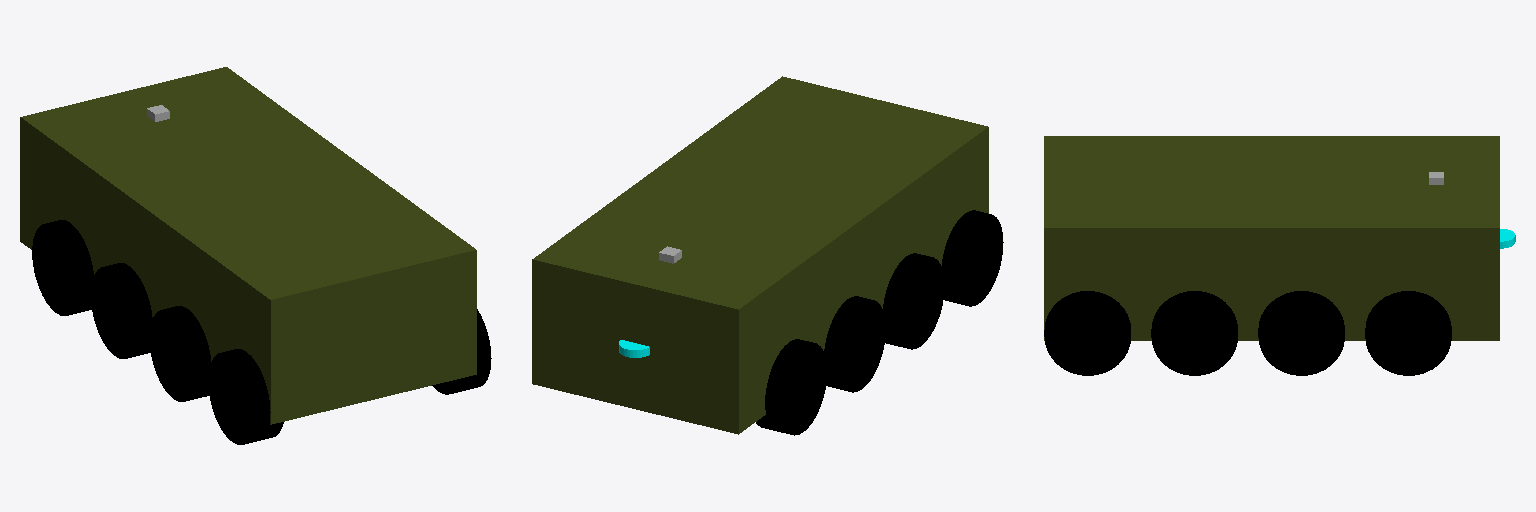
The robot description file, URDF, robot "argo_j8":
<?xml version="1.0"?>
<robot name="argo_j8">

  <!-- Definicion de materiales constantes -->
  <material name="Military green">
    <color rgba="0.29 0.33 0.13 1.0"/>
  </material>

  <material name="black">
    <color rgba="0.0 0.0 0.0 1.0"/>
  </material>

  <material name="blue">
    <color rgba="0.0 1.0 1.0 1.0"/>
  </material>

  <material name="grey">
    <color rgba="0.7 0.7 0.7 1.0"/>
  </material>

  <!-- Chasis -->
  <link name="base_link">
    <visual>
      <geometry>
        <box size="1.40 2.94 0.81"/> <!-- Dimensiones en metros -->
      </geometry>
      <origin xyz="0 0 0" rpy="0 0 0" />
      <material name="Military green"/>
    </visual>
    <collision>
      <geometry>
        <box size="1.40 2.94 0.81"/> <!-- Dimensiones en metros -->
      </geometry>
      <origin xyz="0 0 0" rpy="0 0 0" />
    </collision>
  </link>

  <!-- LiDAR, Cámara y sensor -->
   <link name="LiDAR">
    <visual>
      <geometry>
        <cylinder radius="0.1" length="0.05"/> <!-- Dimensiones en metros -->
      </geometry>
      <origin xyz="0 0 0" rpy="0 0 0" />
      <material name="blue"/>
    </visual>
    <collision>
      <geometry>
        <box size="0.2 0.2 0.05"/> <!-- Dimensiones en metros -->
      </geometry>
      <origin xyz="0 0 0" rpy="0 0 0" />
    </collision>
  </link> 

   <link name="camera">
    <visual>
      <geometry>
        <box size="0.1 0.1 0.1"/> <!-- Dimensiones en metros -->
      </geometry>
      <origin xyz="0 0 0" rpy="0 0 0" />
      <material name="grey"/>
    </visual>
    <collision>
      <geometry>
        <box size="0.1 0.1 0.1"/> <!-- Dimensiones en metros -->
      </geometry>
      <origin xyz="0 0 0" rpy="0 0 0" />
    </collision>
  </link> 

  <!-- Definicion de las 8 ruedas -->
  
  <!-- Rueda delantera izquierda -->
  <link name="wheel_front_left">
    <visual>
      <geometry>
        <cylinder radius="0.28" length="0.20"/> <!-- Radio y ancho de la rueda -->
      </geometry>
      <origin xyz="0 0 0" rpy="0 1.57 0" /> <!-- Radio en radianes -->
      <material name="black"/>
    </visual>
    <collision>
      <geometry>
        <cylinder radius="0.28" length="0.20"/> <!-- Radio y ancho de la rueda -->
      </geometry>
      <origin xyz="0 0 0" rpy="0 1.57 0" /> <!-- Radio en radianes -->
    </collision>
  </link>

  <!-- Rueda delantera derecha -->
  <link name="wheel_front_right">
    <visual>
      <geometry>
        <cylinder radius="0.28" length="0.20"/> <!-- Radio y ancho de la rueda -->
      </geometry>
      <origin xyz="0 0 0" rpy="0 1.57 0" />
      <material name="black"/>
    </visual>
    <collision>
      <geometry>
        <cylinder radius="0.28" length="0.20"/> <!-- Radio y ancho de la rueda -->
      </geometry>
      <origin xyz="0 0 0" rpy="0 1.57 0" />
    </collision>
  </link>
  

  <!-- Rueda delantera_media izquierda -->
  <link name="wheel_midfront_left">
    <visual>
      <geometry>
        <cylinder radius="0.28" length="0.20"/> <!-- Radio y ancho de la rueda -->
      </geometry>
      <origin xyz="0 0 0" rpy="0 1.57 0" />
      <material name="black"/>
    </visual>
    <collision>
      <geometry>
        <cylinder radius="0.28" length="0.20"/> <!-- Radio y ancho de la rueda -->
      </geometry>
      <origin xyz="0 0 0" rpy="0 1.57 0" />
    </collision>
  </link>
  
    <!-- Rueda delantera_media derecha -->
  <link name="wheel_midfront_right">
    <visual>
      <geometry>
        <cylinder radius="0.28" length="0.20"/> <!-- Radio y ancho de la rueda -->
      </geometry>
      <origin xyz="0 0 0" rpy="0 1.57 0" />
      <material name="black"/>
    </visual>
    <collision>
      <geometry>
        <cylinder radius="0.28" length="0.20"/> <!-- Radio y ancho de la rueda -->
      </geometry>
      <origin xyz="0 0 0" rpy="0 1.57 0" />
    </collision>
  </link>
  
    <!-- Rueda trasera_media izquierda -->
  <link name="wheel_midback_left">
    <visual>
      <geometry>
        <cylinder radius="0.28" length="0.20"/> <!-- Radio y ancho de la rueda -->
      </geometry>
      <origin xyz="0 0 0" rpy="0 1.57 0" />
      <material name="black"/>
    </visual>
    <collision>
      <geometry>
        <cylinder radius="0.28" length="0.20"/> <!-- Radio y ancho de la rueda -->
      </geometry>
      <origin xyz="0 0 0" rpy="0 1.57 0" />
    </collision>
  </link>

  <!-- Rueda trasera_media derecha -->
  <link name="wheel_midback_right">
    <visual>
      <geometry>
        <cylinder radius="0.28" length="0.20"/> <!-- Radio y ancho de la rueda -->
      </geometry>
      <origin xyz="0 0 0" rpy="0 1.57 0" />
      <material name="black"/>
    </visual>
    <collision>
      <geometry>
        <cylinder radius="0.28" length="0.20"/> <!-- Radio y ancho de la rueda -->
      </geometry>
      <origin xyz="0 0 0" rpy="0 1.57 0" />
    </collision>
  </link>
  
    <!-- Rueda trasera izquierda -->
  <link name="wheel_back_left">
    <visual>
      <geometry>
        <cylinder radius="0.28" length="0.20"/> <!-- Radio y ancho de la rueda -->
      </geometry>
      <origin xyz="0 0 0" rpy="0 1.57 0" />
      <material name="black"/>
    </visual>
    <collision>
      <geometry>
        <cylinder radius="0.28" length="0.20"/> <!-- Radio y ancho de la rueda -->
      </geometry>
      <origin xyz="0 0 0" rpy="0 1.57 0" />
    </collision>
  </link>
  
  <!-- Rueda trasera derecha -->
  <link name="wheel_back_right">
    <visual>
      <geometry>
        <cylinder radius="0.28" length="0.20"/> <!-- Radio y ancho de la rueda -->
      </geometry>
      <origin xyz="0 0 0" rpy="0 1.57 0" />
      <material name="black"/>
    </visual>
    <collision>
      <geometry>
        <cylinder radius="0.28" length="0.20"/> <!-- Radio y ancho de la rueda -->
      </geometry>
      <origin xyz="0 0 0" rpy="0 1.57 0" />
    </collision>
  </link>

  <!-- Link virtual para base del plano.  -->
  <link name="base_footprint"/>

  <!-- Joint de referencia de la base del plano y Argo J8 -->
  <joint name="joint_base_footprint" type="fixed">
    <parent link="base_link"/>
    <child link="base_footprint"/>
    <origin xyz="0 0 -0.605" rpy="0 0 0"/> <!-- Posición de la rueda con respecto al chasis -->
  </joint>


  <!-- Definicion de Joints entre chasis y LiDAR, cámara y sensores, y, entre chasis y rueda -->

  <!-- Joint entre chasis y LiDAR -->
  <joint name="joint_LiDAR" type="fixed">
    <parent link="base_link"/>
    <child link="LiDAR"/>
    <origin xyz="0 1.47 0" rpy="0 0 0"/> <!-- Posición de la rueda con respecto al chasis -->
  </joint>

  <!-- Joint entre chasis y camera -->
  <joint name="joint_camera" type="fixed">
    <parent link="base_link"/>
    <child link="camera"/>
    <origin xyz="0 1.06 0.405" rpy="0 0 0"/> <!-- Posición de la rueda con respecto al chasis -->
  </joint>
  
  <!-- Joint entre chasis y rueda delantera izquierda -->
  <joint name="joint_wheel_front_left" type="continuous">
    <parent link="base_link"/>
    <child link="wheel_front_left"/>
    <origin xyz="-0.7 0.88 -0.325" rpy="0 0 0"/> <!-- Posición de la rueda con respecto al chasis -->
    <axis xyz="-1 0 0"/> <!-- Eje de rotación -->
  </joint>
  
    <!-- Joint entre chasis y rueda delantera derecha -->
  <joint name="joint_wheel_front_right" type="continuous">
    <parent link="base_link"/>
    <child link="wheel_front_right"/>
    <origin xyz="0.7 0.88 -0.325" rpy="0 0 0"/> <!-- Posición de la rueda con respecto al chasis -->
    <axis xyz="-1 0 0"/> <!-- Eje de rotación -->
  </joint>
  
    <!-- Joint entre chasis y rueda delantera_media izquierda -->
  <joint name="joint_wheel_midfront_left" type="continuous">
    <parent link="base_link"/>
    <child link="wheel_midfront_left"/>
    <origin xyz="-0.7 0.19 -0.325" rpy="0 0 0"/> <!-- Posición de la rueda con respecto al chasis -->
    <axis xyz="-1 0 0"/> <!-- Eje de rotación -->
  </joint>
  
    <!-- Joint entre chasis y rueda delantera_media derecha -->
  <joint name="joint_wheel_midfront_right" type="continuous">
    <parent link="base_link"/>
    <child link="wheel_midfront_right"/>
    <origin xyz="0.7 0.19 -0.325" rpy="0 0 0"/> <!-- Posición de la rueda con respecto al chasis -->
    <axis xyz="-1 0 0"/> <!-- Eje de rotación -->
  </joint>

  <!-- Joint entre chasis y rueda trasera_media izquierda -->
  <joint name="joint_wheel_midback_left" type="continuous">
    <parent link="base_link"/>
    <child link="wheel_midback_left"/>
    <origin xyz="-0.7 -0.5 -0.325" rpy="0 0 0"/> <!-- Posición de la rueda con respecto al chasis -->
    <axis xyz="-1 0 0"/> <!-- Eje de rotación -->
  </joint>

  <!-- Joint entre chasis y rueda trasera_media derecha -->
  <joint name="joint_wheel_midback_right" type="continuous">
    <parent link="base_link"/>
    <child link="wheel_midback_right"/>
    <origin xyz="0.7 -0.5 -0.325" rpy="0 0 0"/> <!-- Posición de la rueda con respecto al chasis -->
    <axis xyz="-1 0 0"/> <!-- Eje de rotación -->
  </joint>
  
  <!-- Joint entre chasis y rueda trasera izquierda -->
  <joint name="joint_wheel_back_left" type="continuous">
    <parent link="base_link"/>
    <child link="wheel_back_left"/>
    <origin xyz="-0.7 -1.19 -0.325" rpy="0 0 0"/> <!-- Posición de la rueda con respecto al chasis -->
    <axis xyz="-1 0 0"/> <!-- Eje de rotación -->
  </joint>
  
  <!-- Joint entre chasis y rueda trasera derecha -->
  <joint name="joint_wheel_back_right" type="continuous">
    <parent link="base_link"/>
    <child link="wheel_back_right"/>
    <origin xyz="0.7 -1.19 -0.325" rpy="0 0 0"/> <!-- Posición de la rueda con respecto al chasis -->
    <axis xyz="-1 0 0"/> <!-- Eje de rotación -->
  </joint>

  
</robot>

--- Render facts (derived) ---
3 views of the same robot in one strip: view 1: azimuth 30°, elevation 25°; view 2: azimuth 150°, elevation 25°; view 3: azimuth 270°, elevation 25° (orthographic).
Model argo_j8 with 12 links and 11 joints (8 continuous, 3 fixed), rooted at base_link, posed all joints at 0.
Links seen in each view (by area): view 1: base_link, wheel_back_left, wheel_midfront_left, wheel_front_left, wheel_midback_left, wheel_back_right; view 2: base_link, wheel_front_left, wheel_midfront_left, wheel_midback_left, wheel_back_left; view 3: base_link, wheel_midback_right, wheel_midfront_right, wheel_back_right, wheel_front_right.
Boxes of the visible links, bbox=[...] form: base_link: bbox=[20, 67, 476, 424]; wheel_back_left: bbox=[208, 349, 283, 444]; wheel_midfront_left: bbox=[91, 263, 152, 358]; wheel_front_left: bbox=[32, 220, 93, 315]; wheel_midback_left: bbox=[149, 306, 210, 401]; wheel_back_right: bbox=[432, 309, 491, 394]; base_link: bbox=[532, 76, 988, 434]; wheel_front_left: bbox=[756, 339, 826, 435]; wheel_midfront_left: bbox=[824, 296, 885, 392]; wheel_midback_left: bbox=[883, 253, 944, 349]; wheel_back_left: bbox=[942, 210, 1003, 306]; base_link: bbox=[1044, 136, 1499, 340]; wheel_midback_right: bbox=[1151, 291, 1237, 375]; wheel_midfront_right: bbox=[1258, 291, 1344, 375]; wheel_back_right: bbox=[1044, 291, 1130, 375]; wheel_front_right: bbox=[1365, 291, 1451, 375].
Bounding box of the posed robot: 1.6 × 3.04 × 1.06 m (x, y, z).
Geometry: primitives only (box / cylinder / sphere), no mesh files.